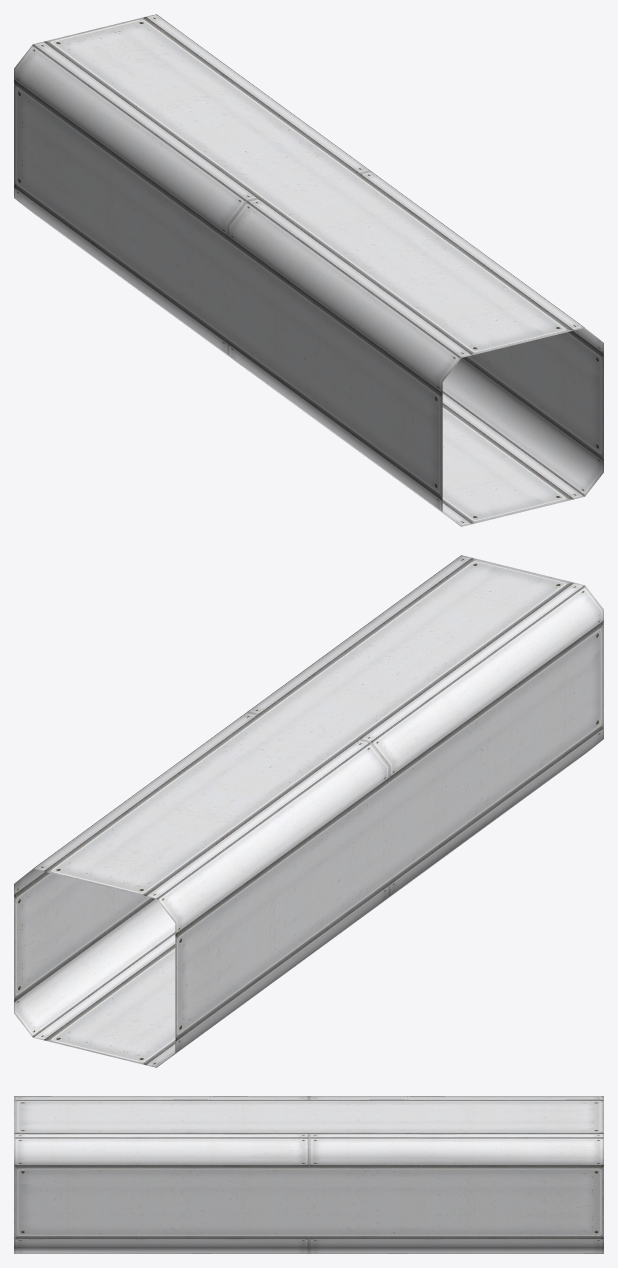
File: CeilingBrace_1x6cappedB.FBX
3 views of the same model, one above another, from view 1: azimuth 30°, elevation 25°; view 2: azimuth 150°, elevation 25°; view 3: azimuth 270°, elevation 25° (orthographic). The views are drawn at different scales.
Parts seen in each view (by area): view 1: CeilingBrace_1x6cappedB; view 2: CeilingBrace_1x6cappedB; view 3: CeilingBrace_1x6cappedB.
Boxes of the visible parts, left/top/right/bottom form: CeilingBrace_1x6cappedB: left=14, top=14, right=603, bottom=526; CeilingBrace_1x6cappedB: left=14, top=555, right=603, bottom=1067; CeilingBrace_1x6cappedB: left=14, top=1096, right=603, bottom=1253.
Bounding box in the file's own units: 1.3 × 1.3 × 6.
